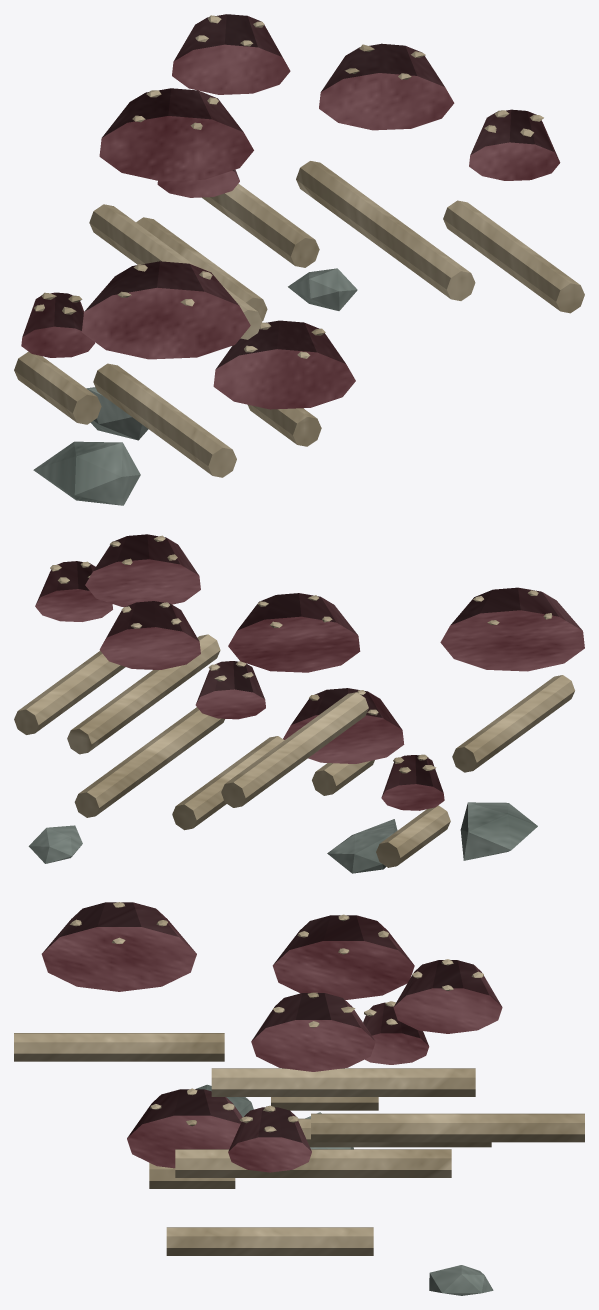
File: 0221_mushroom_patch_21.glb
3 views of the same model, one above another, from view 1: azimuth 30°, elevation 25°; view 2: azimuth 150°, elevation 25°; view 3: azimuth 270°, elevation 25° (orthographic). The views are drawn at different scales.
Visible parts, largest first — view 1: cloth, bone, stone; view 2: cloth, bone, stone; view 3: cloth, bone, stone.
Part boxes in pixels (left/top/right/bottom): cloth: left=21, top=14, right=560, bottom=409; bone: left=14, top=15, right=584, bottom=477; stone: left=33, top=268, right=357, bottom=505; cloth: left=35, top=534, right=584, bottom=810; bone: left=14, top=535, right=574, bottom=867; stone: left=28, top=802, right=537, bottom=873; cloth: left=41, top=902, right=502, bottom=1172; bone: left=14, top=902, right=584, bottom=1255; stone: left=195, top=1084, right=493, bottom=1295.
Bounding box in the file's own units: 2.26 × 1.22 × 2.25.
Materials: 3 (3 with a texture image).
